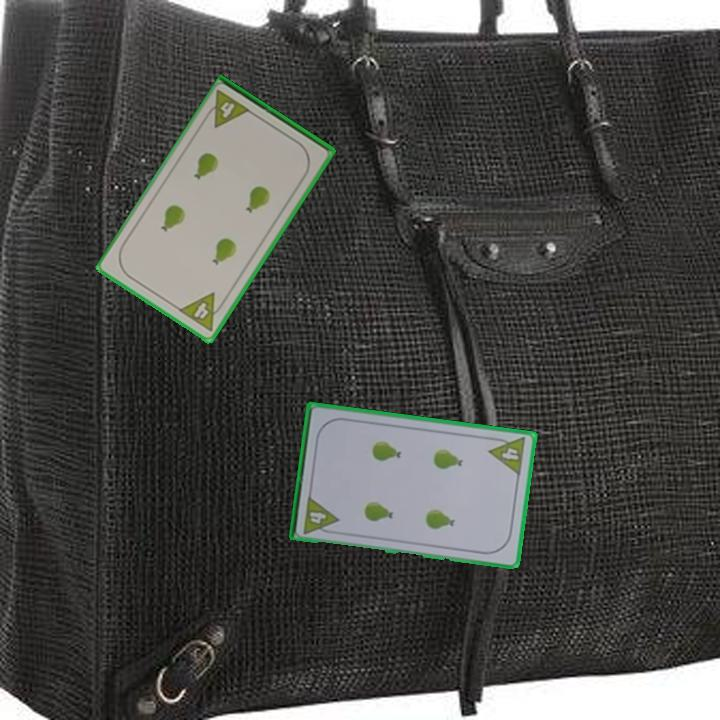4p: (175, 289, 229, 335), (200, 87, 254, 131), (486, 433, 528, 478), (300, 492, 341, 537)
